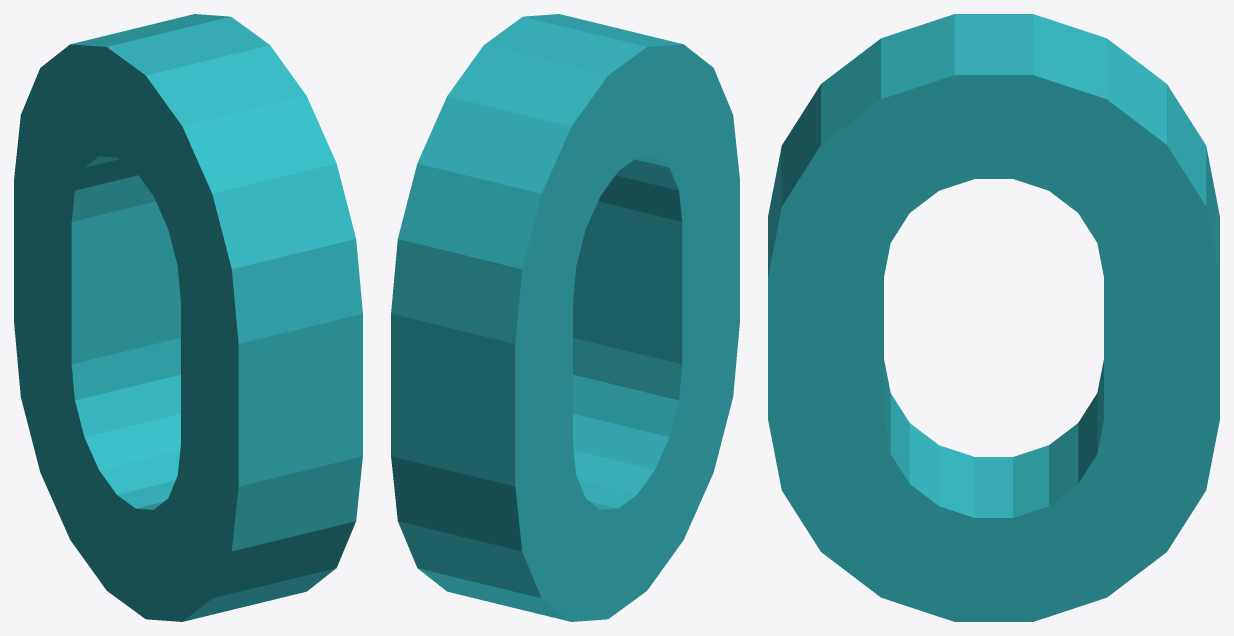
The picture shows the model from 3 angles, left to right: view 1: azimuth 30°, elevation 25°; view 2: azimuth 150°, elevation 25°; view 3: azimuth 270°, elevation 25°; orthographic projection.
Visible parts, largest first — view 1: O; view 2: O; view 3: O.
Part boxes in pixels (<box>): O: <box>14,14,362,621</box>; O: <box>391,14,739,621</box>; O: <box>768,14,1219,621</box>.
Size of the model in its own units: 22.73 by 94.96 by 71.08.
